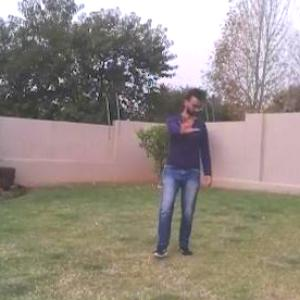follow_hand: (170, 104, 203, 136)
